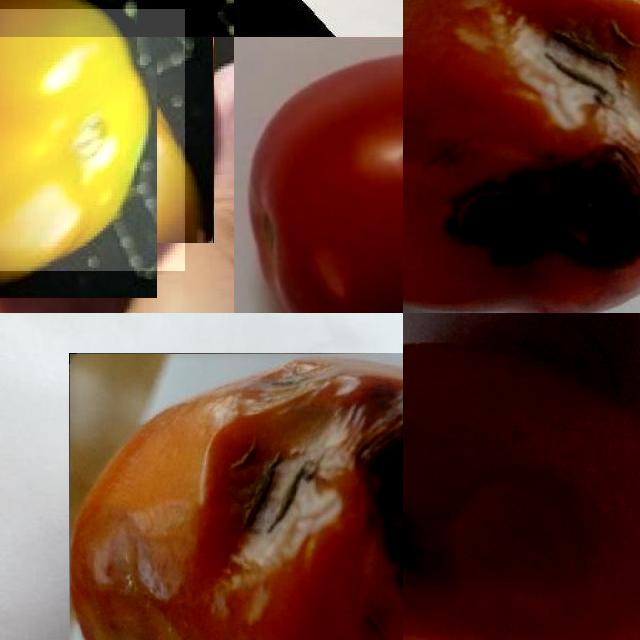1: (69, 353, 403, 640)
Fresh Tomato: (234, 37, 403, 313)
Rotten Tomato: (403, 313, 640, 640), (403, 0, 640, 313), (0, 9, 185, 270)
